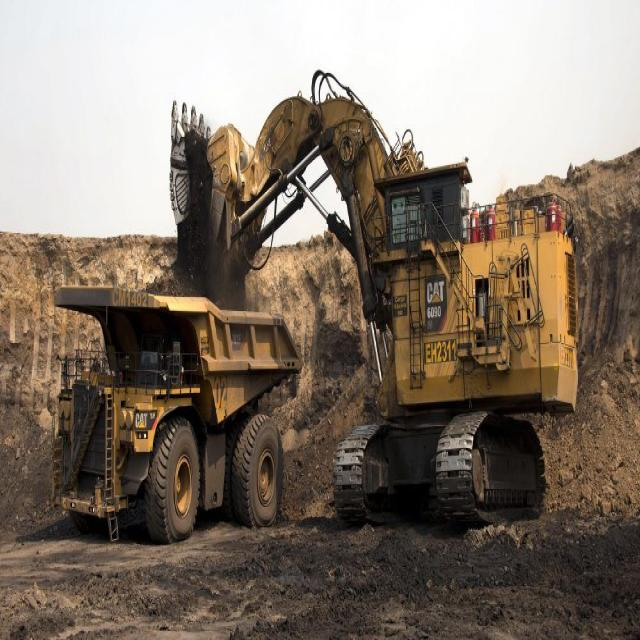dump_truck: (47, 272, 298, 564)
excavator: (162, 63, 589, 548)
